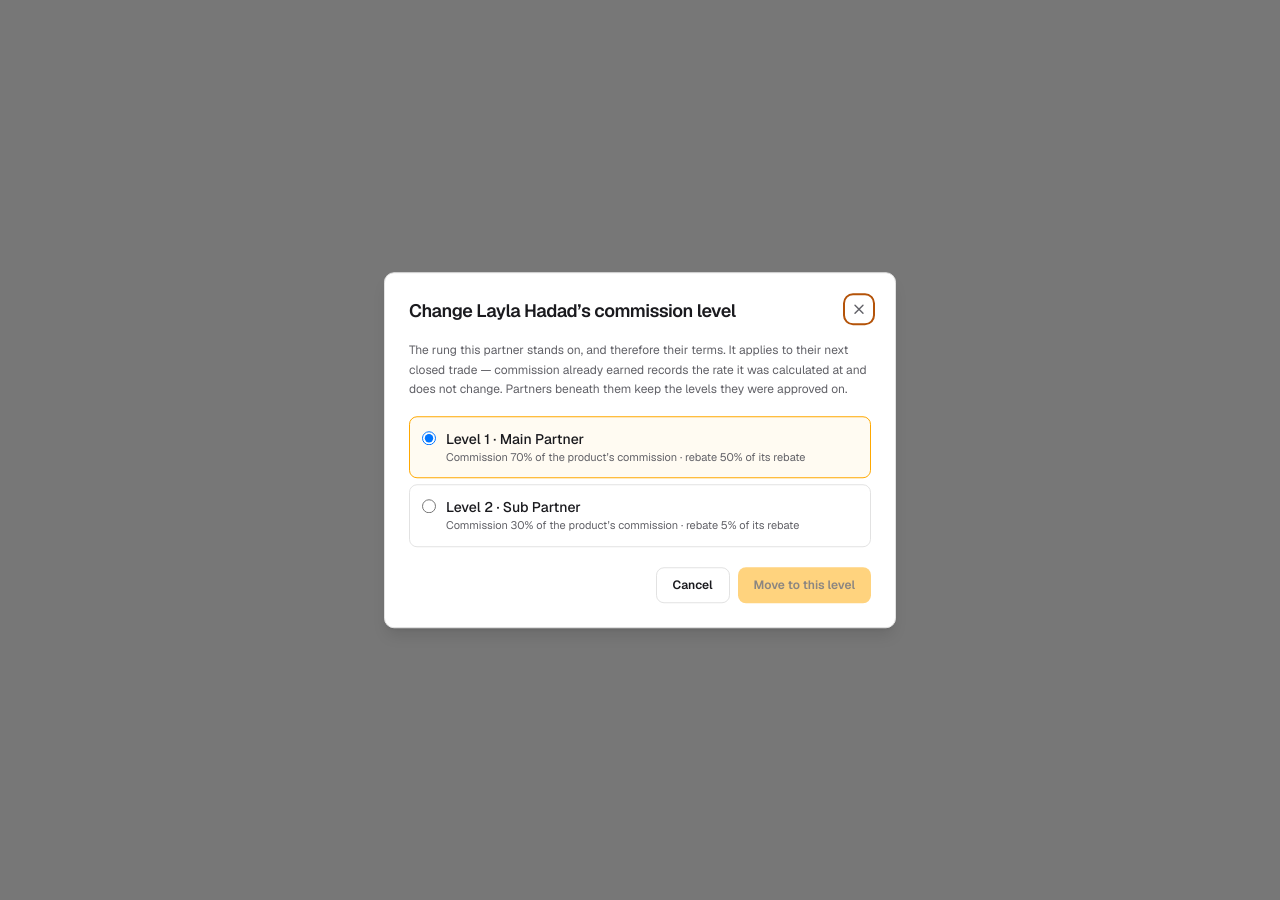
Test: moving a partner to another level › refuses level 2 for a main partner who has sub-partners of their own
Click the radio button labelled "Sub Partner" at (429, 506), box [422,499,436,513]
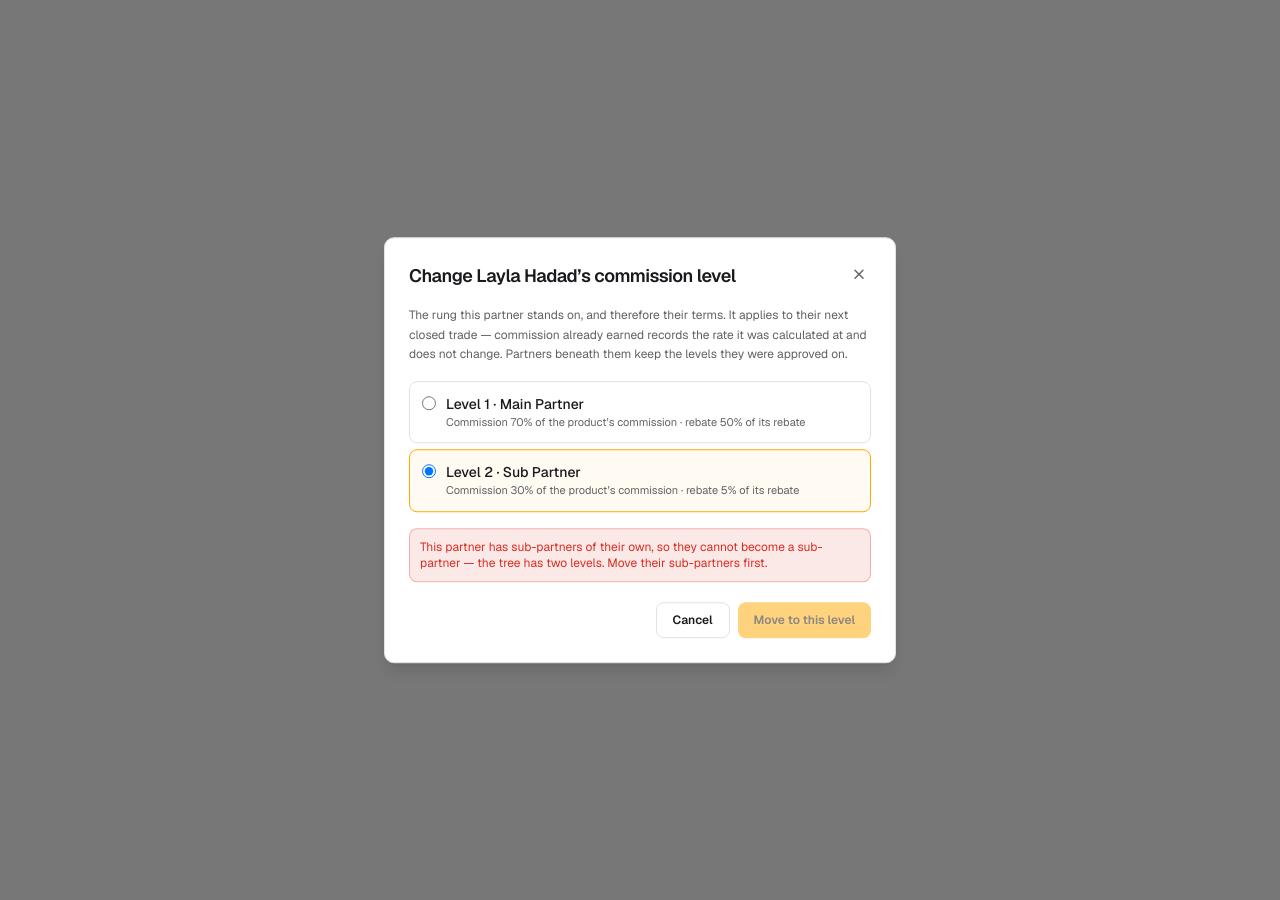
Expected: the button "Move to this level" is disabled, [738,602,871,638]
Expected: the message shows "has sub-partners of their own", [420,539,822,571]
